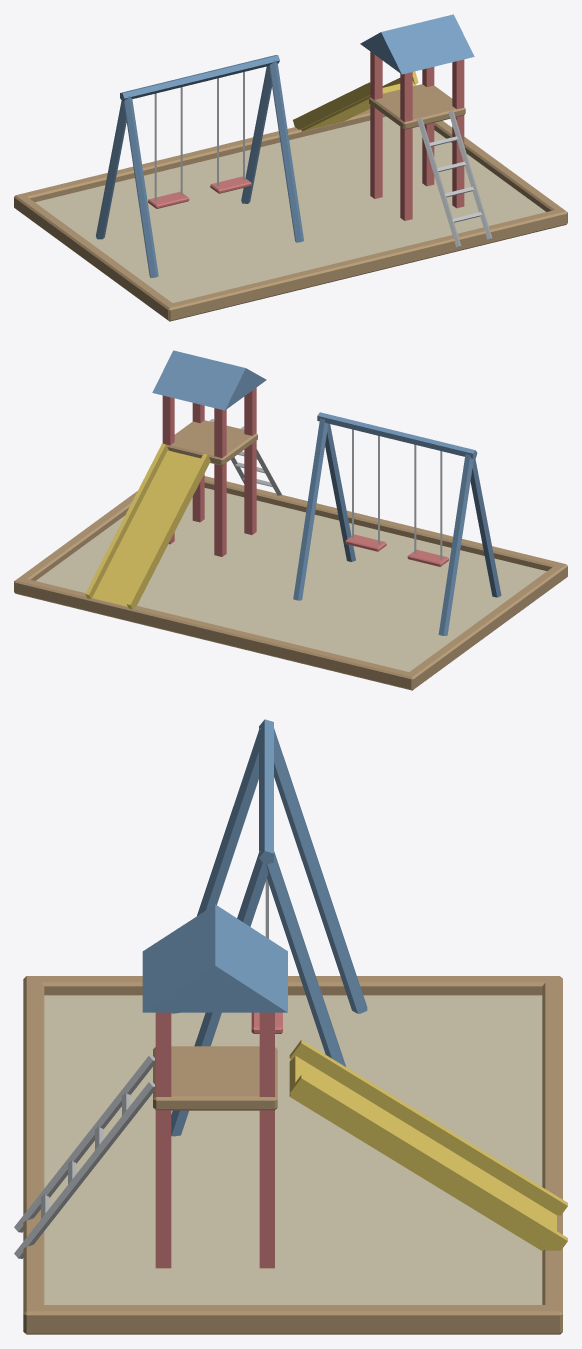
File: mobiliario__parquinho.glb
3 renders of one model, top to bottom at view 1: azimuth 30°, elevation 25°; view 2: azimuth 150°, elevation 25°; view 3: azimuth 270°, elevation 25°, orthographic. The views are drawn at different scales.
Parts seen in each view (by area): view 1: mobiliario__parquinho; view 2: mobiliario__parquinho; view 3: mobiliario__parquinho.
Part boxes in pixels (box(x1,y1,x2,y2)): mobiliario__parquinho: box(14, 14, 567, 321); mobiliario__parquinho: box(14, 350, 567, 690); mobiliario__parquinho: box(14, 719, 567, 1334).
Bounding box in the file's own units: 1.54 × 0.68 × 1.07.
